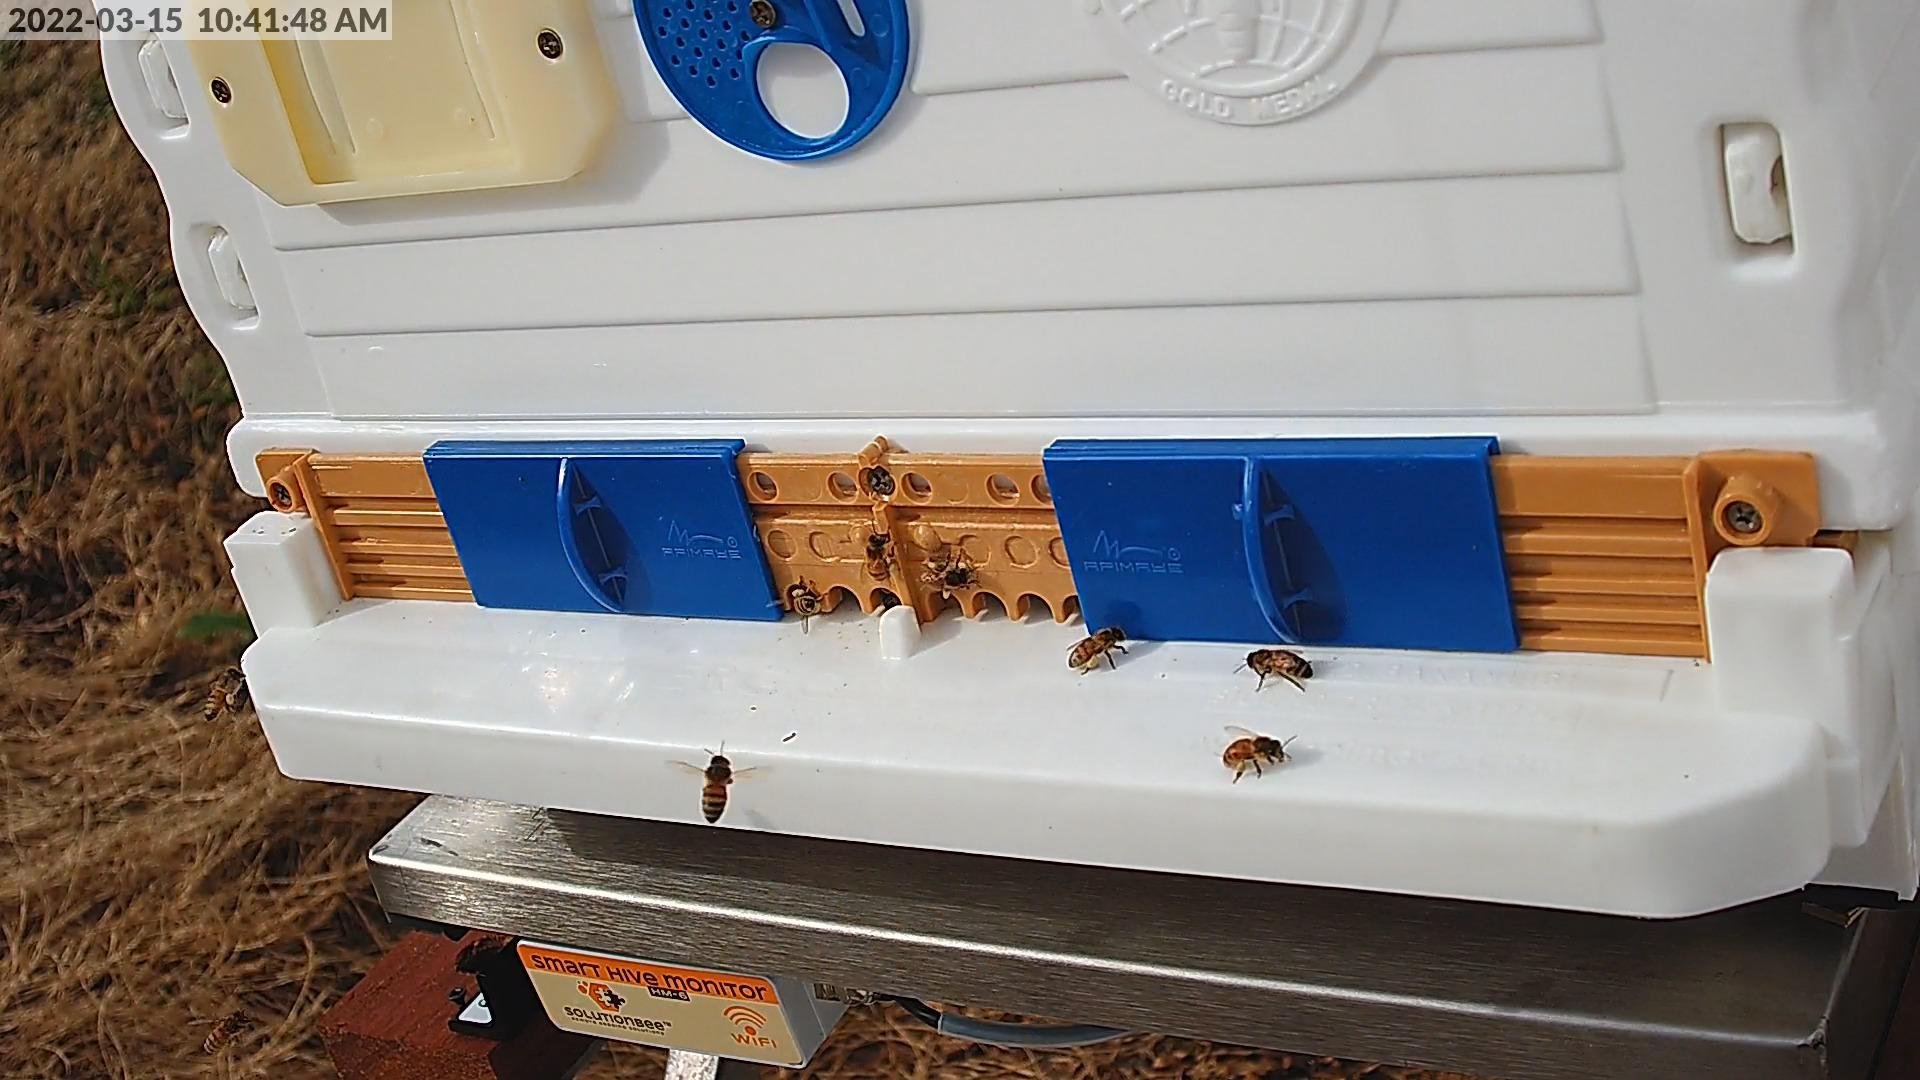bee: (699, 756, 733, 822), (204, 1009, 249, 1056), (1246, 651, 1316, 679)
pollenbee: (1069, 626, 1125, 669), (923, 558, 977, 599), (203, 667, 247, 716), (1224, 738, 1283, 769), (864, 534, 899, 580), (790, 588, 820, 616)
